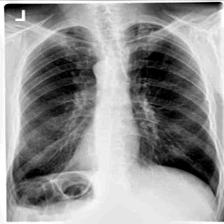tuberculosis: (5, 20, 222, 211)
